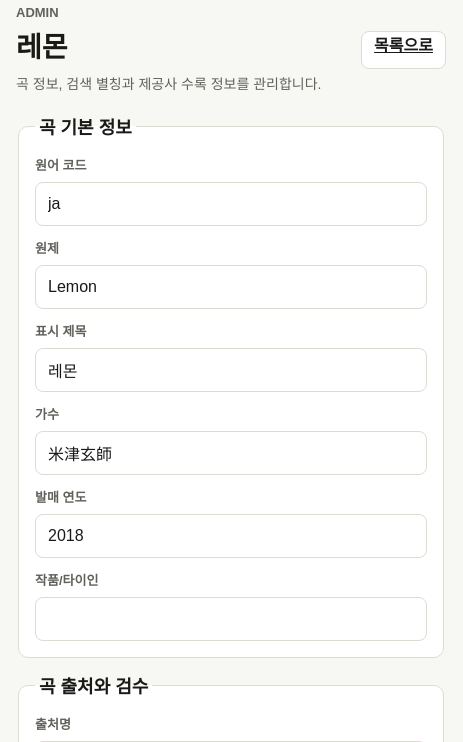
administrator song detail page › shows invalid duplicate input separately without sending a check
Replace the text in the field labelled "원제" with "---": (231, 287) [35,265,427,309]
(page scrolled)
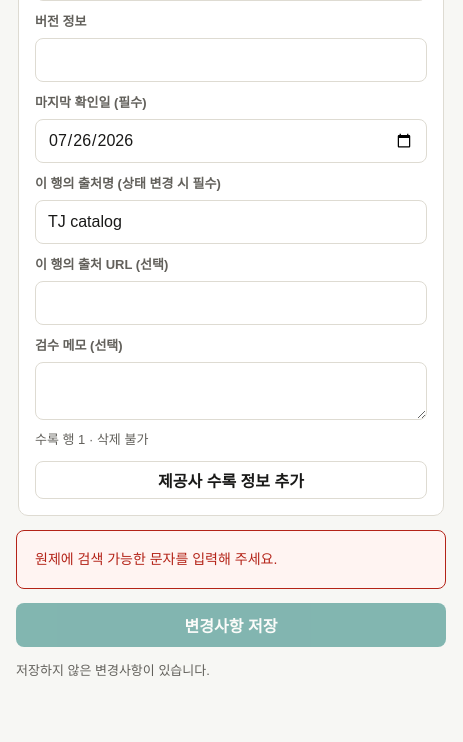
Expected: the button "변경사항 저장" is disabled, [16,603,446,647]
Expected: the text "원제에 검색 가능한 문자를 입력해 주세요." is shown, [35,551,277,567]
